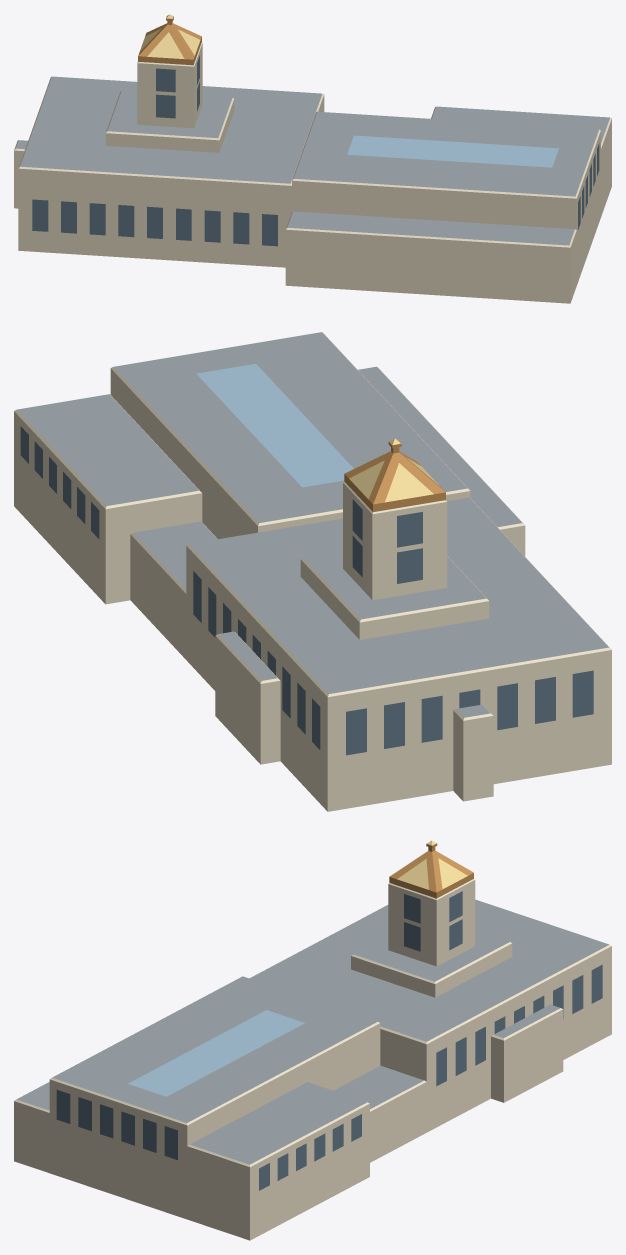
File: detail.glb
3 views of the same model, one above another, from view 1: azimuth 30°, elevation 25°; view 2: azimuth 150°, elevation 25°; view 3: azimuth 270°, elevation 25° (orthographic). The views are drawn at different scales.
Parts seen in each view (by area): view 1: los-angeles-central-library; view 2: los-angeles-central-library; view 3: los-angeles-central-library.
Part boxes in pixels (x1,y1,x2,y2): los-angeles-central-library: (14, 14, 611, 303); los-angeles-central-library: (14, 332, 611, 811); los-angeles-central-library: (14, 840, 611, 1240).
Size of the model in its own units: 154 by 56.8 by 145.
